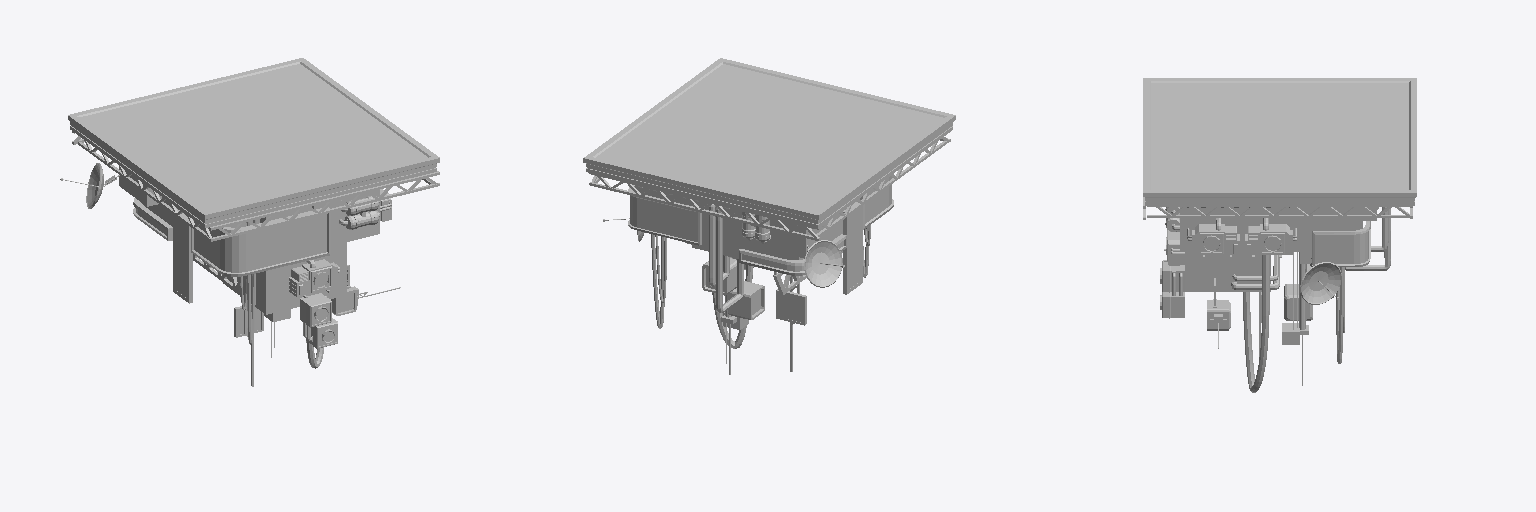
The model's file is Platform_4x4_Cube.obj.
3 views of the same model, side by side, from view 1: azimuth 30°, elevation 25°; view 2: azimuth 150°, elevation 25°; view 3: azimuth 270°, elevation 25° (orthographic).
Parts seen in each view (by area): view 1: Platform_4x4_Cube.099; view 2: Platform_4x4_Cube.099; view 3: Platform_4x4_Cube.099.
Boxes of the visible parts, x1,y1,x2,y2 form: Platform_4x4_Cube.099: [60, 58, 439, 386]; Platform_4x4_Cube.099: [583, 58, 955, 374]; Platform_4x4_Cube.099: [1143, 78, 1416, 392].
Size of the model in its own units: 4.47 by 3.76 by 3.9.